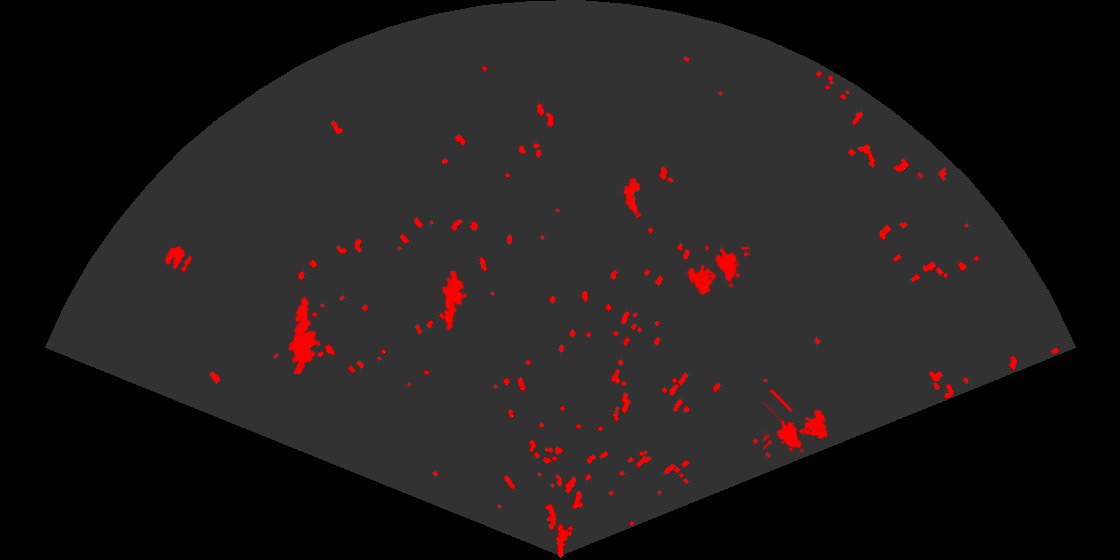AUV: (621, 176, 642, 217)
ball: (163, 244, 193, 273)
cage: (763, 390, 829, 454), (685, 246, 750, 297)
frogman: (287, 295, 322, 374), (441, 271, 469, 332)
